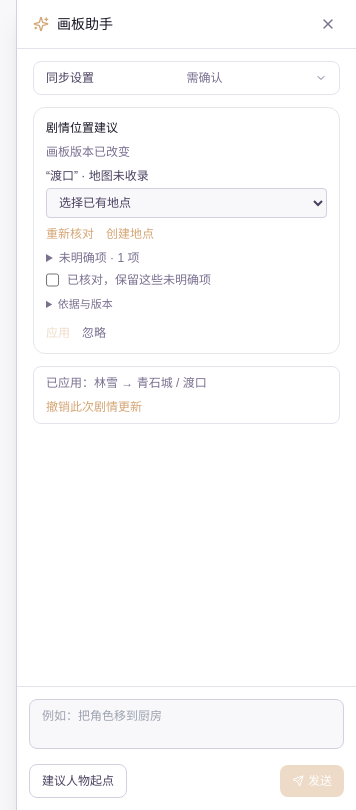
Test: 空间阶段 3：紧凑交互 › 版本冲突显示核对入口，撤销失败保留后续位置并展示原因
This screenshot has width=356, height=810.
Expected: the text "画板版本已改变" is shown, [46,145,130,159]
Expected: the button "应用" is disabled, [46,324,70,340]
Click the button "撤销此次剧情更新".
click(94, 406)  # box [46,398,142,414]
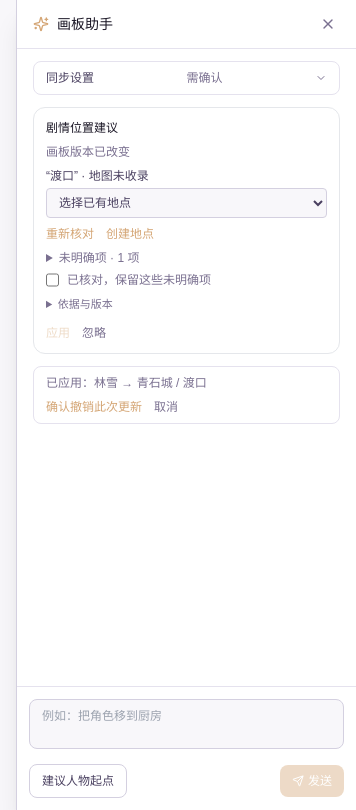
Click the button "确认撤销此次更新".
click(94, 406)  # box [46,398,142,414]
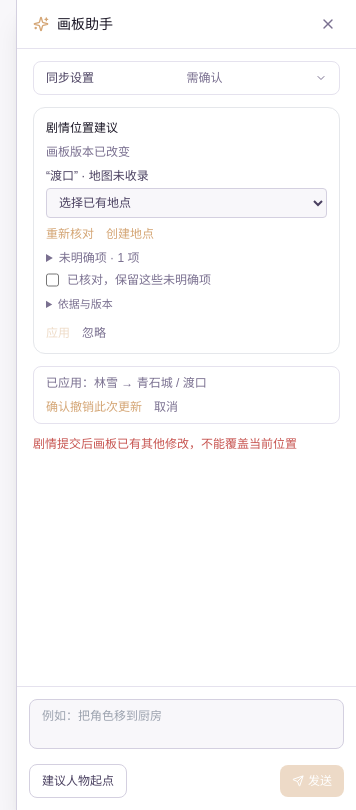
Now the message shows "不能覆盖当前位置", box [33,436,297,450]
